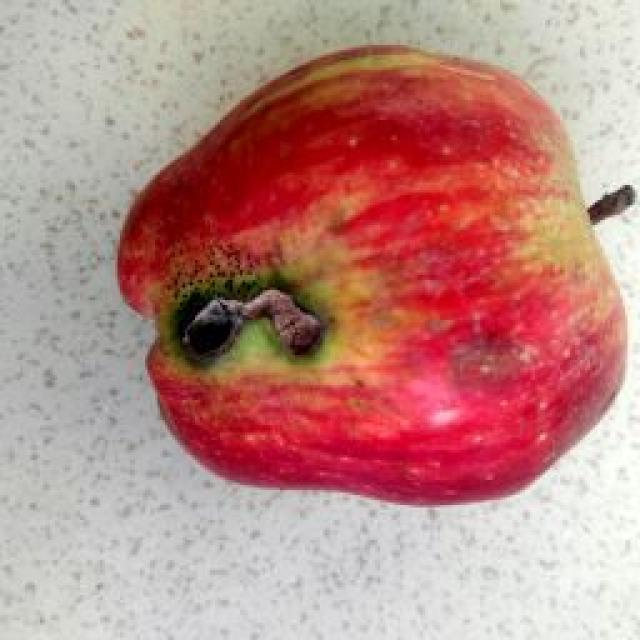Bad_Apple: (119, 46, 625, 503)
